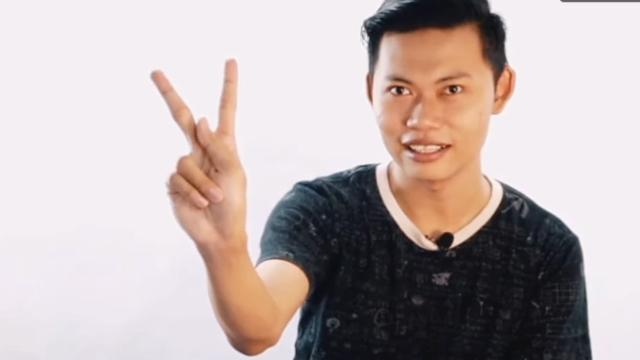K: (147, 57, 253, 253)
